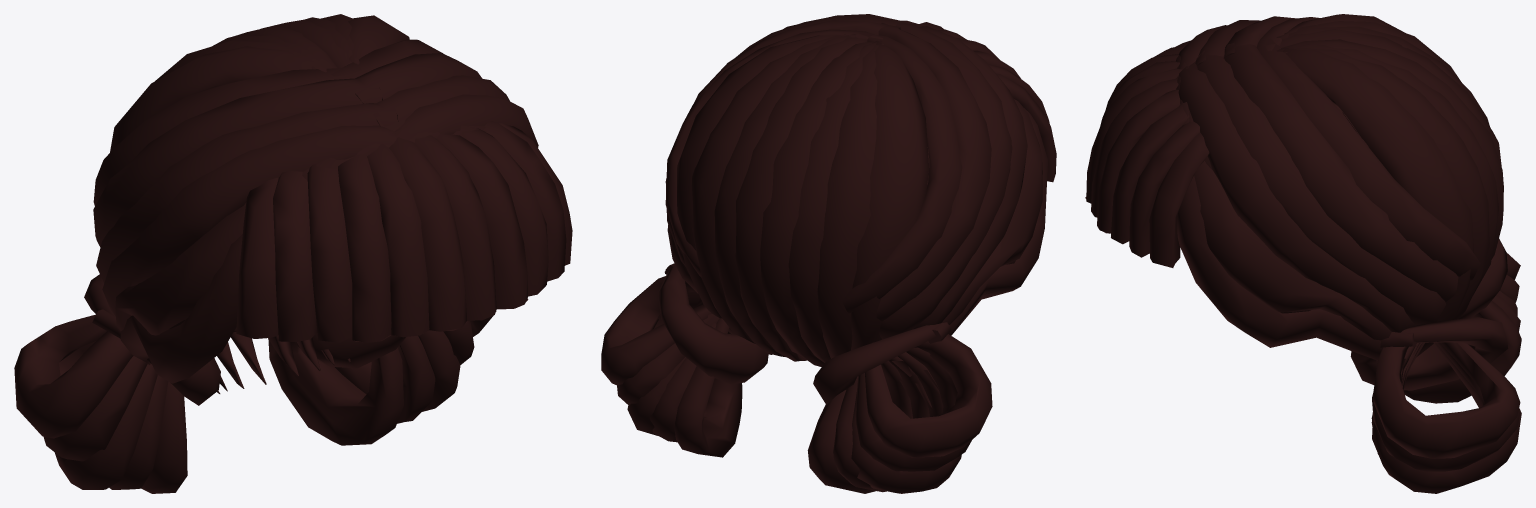
Rendered from hair-3-545d3025.glb.
3 renders of one model, left to right at view 1: azimuth 30°, elevation 25°; view 2: azimuth 150°, elevation 25°; view 3: azimuth 270°, elevation 25°, orthographic. The views are drawn at different scales.
Visible parts, largest first — view 1: hair_3.001; view 2: hair_3.001; view 3: hair_3.001.
Boxes of the visible parts, x1,y1,x2,y2 form: hair_3.001: (14, 14, 572, 493); hair_3.001: (601, 14, 1056, 493); hair_3.001: (1085, 14, 1521, 493).
Size of the model in its own units: 2.16 by 2.14 by 2.11.
